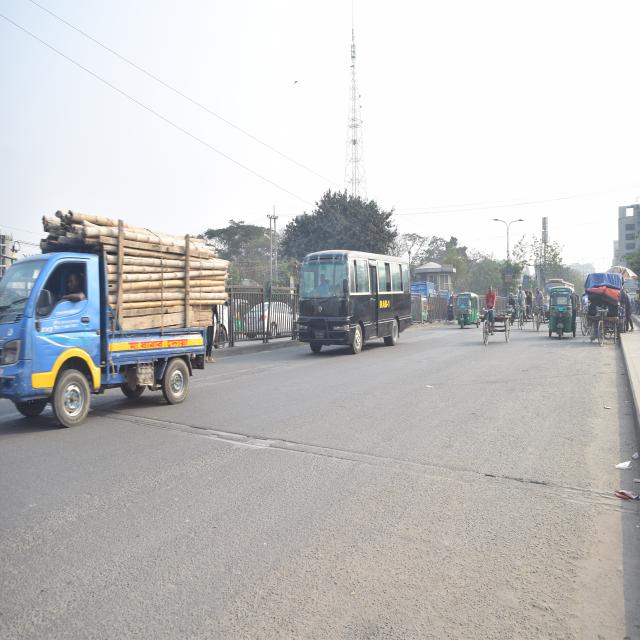bus: (291, 242, 412, 359), (543, 279, 575, 298)
motorbike: (505, 299, 517, 326)
pickup-van: (0, 221, 231, 438)
